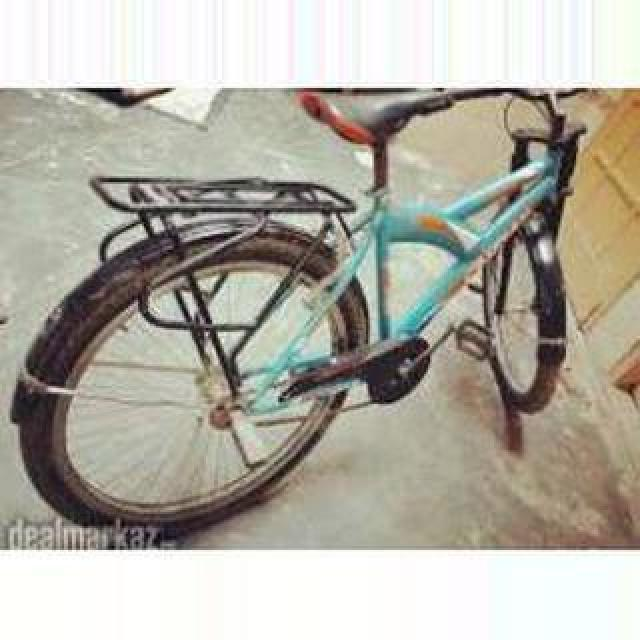Person: (11, 88, 589, 542)
